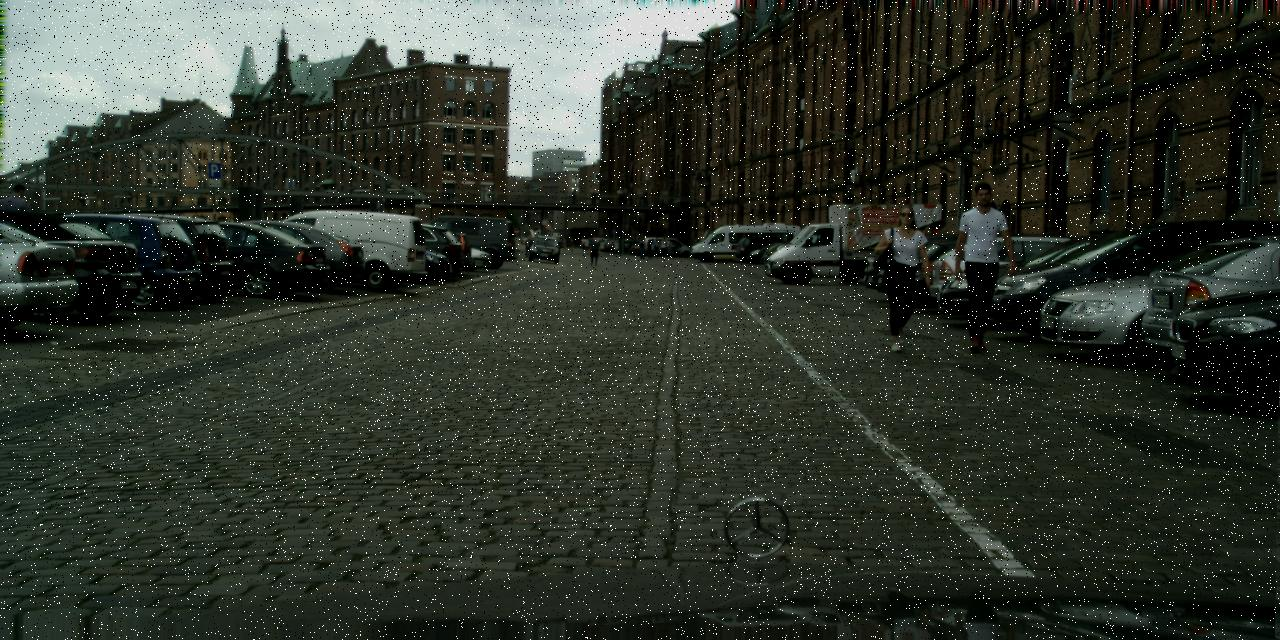ped: (948, 182, 1016, 350), (874, 206, 931, 345), (0, 183, 37, 279), (588, 238, 599, 265), (652, 236, 660, 259), (659, 238, 667, 258), (638, 240, 646, 259), (645, 240, 653, 259), (641, 188, 649, 206), (524, 236, 532, 254), (620, 188, 627, 206), (590, 186, 596, 205), (616, 187, 622, 206), (664, 238, 670, 256), (636, 189, 642, 205), (661, 190, 667, 206), (485, 186, 491, 201), (571, 188, 576, 204), (562, 236, 567, 249), (580, 237, 585, 250), (556, 236, 561, 248)
